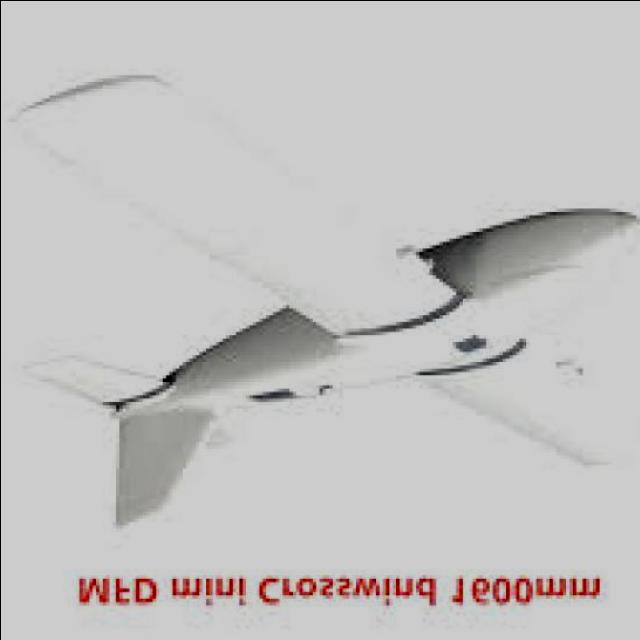plane: (10, 74, 640, 531)
